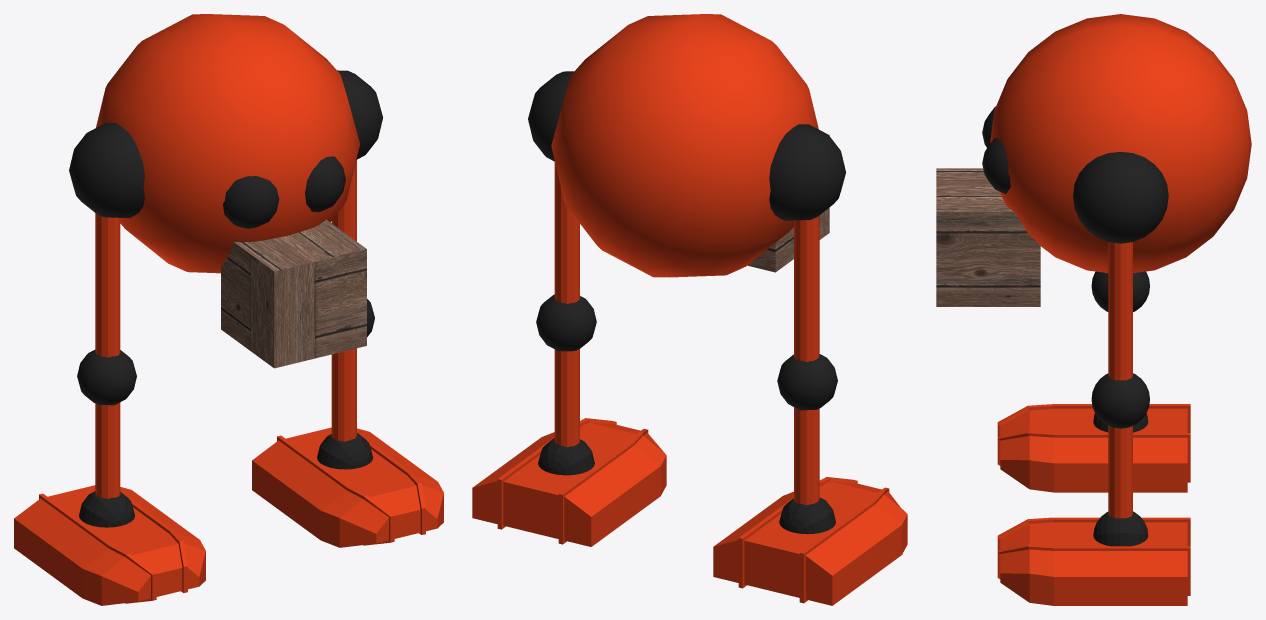
Rendered from RoboBoxLight.fbx.
The picture shows the model from 3 angles, left to right: view 1: azimuth 30°, elevation 25°; view 2: azimuth 150°, elevation 25°; view 3: azimuth 270°, elevation 25°; orthographic projection. The views are drawn at different scales.
Parts seen in each view (by area): view 1: Robo.006, Cube; view 2: Robo.006, Cube; view 3: Robo.006, Cube.
Boxes of the visible parts, x1=… form: Robo.006: x1=14, y1=14, x2=443, y2=605; Cube: x1=221, y1=219, x2=366, y2=368; Robo.006: x1=472, y1=14, x2=907, y2=605; Cube: x1=747, y1=134, x2=829, y2=272; Robo.006: x1=982, y1=14, x2=1251, y2=605; Cube: x1=936, y1=168, x2=1040, y2=306.
Size of the model in its own units: 795 by 1090 by 626.
